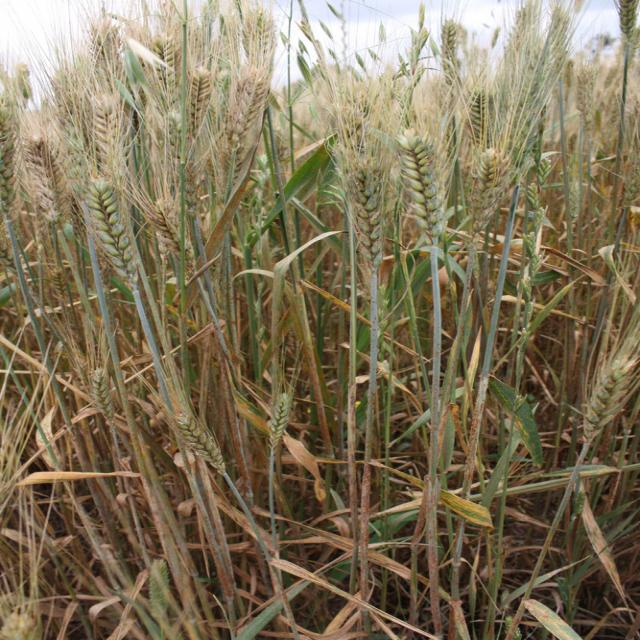wheat-stemrust: (195, 500, 236, 597), (459, 374, 490, 501), (357, 464, 372, 600), (425, 524, 443, 634)
